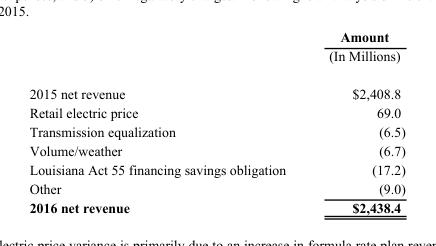table: (28, 28, 404, 214)
table column: (28, 28, 306, 214), (306, 28, 404, 214)
table column header: (28, 28, 404, 74)
table row: (28, 28, 404, 74), (28, 74, 404, 102), (28, 102, 404, 121), (28, 121, 404, 140), (28, 140, 404, 159), (28, 159, 404, 178), (28, 178, 404, 197), (28, 197, 404, 214)
